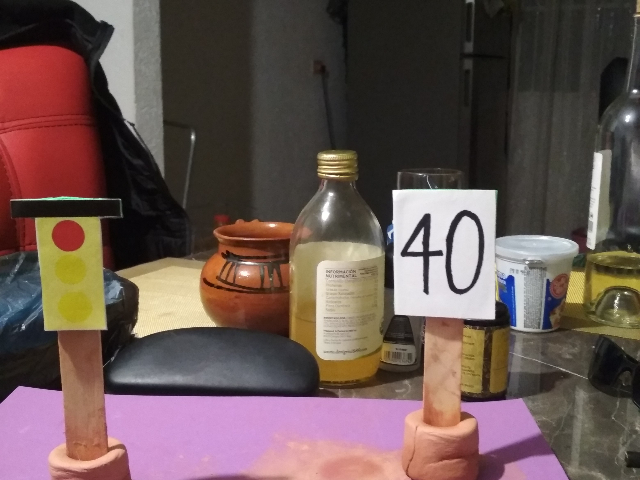Limit 40: (391, 190, 498, 325)
Red: (10, 198, 121, 332)
